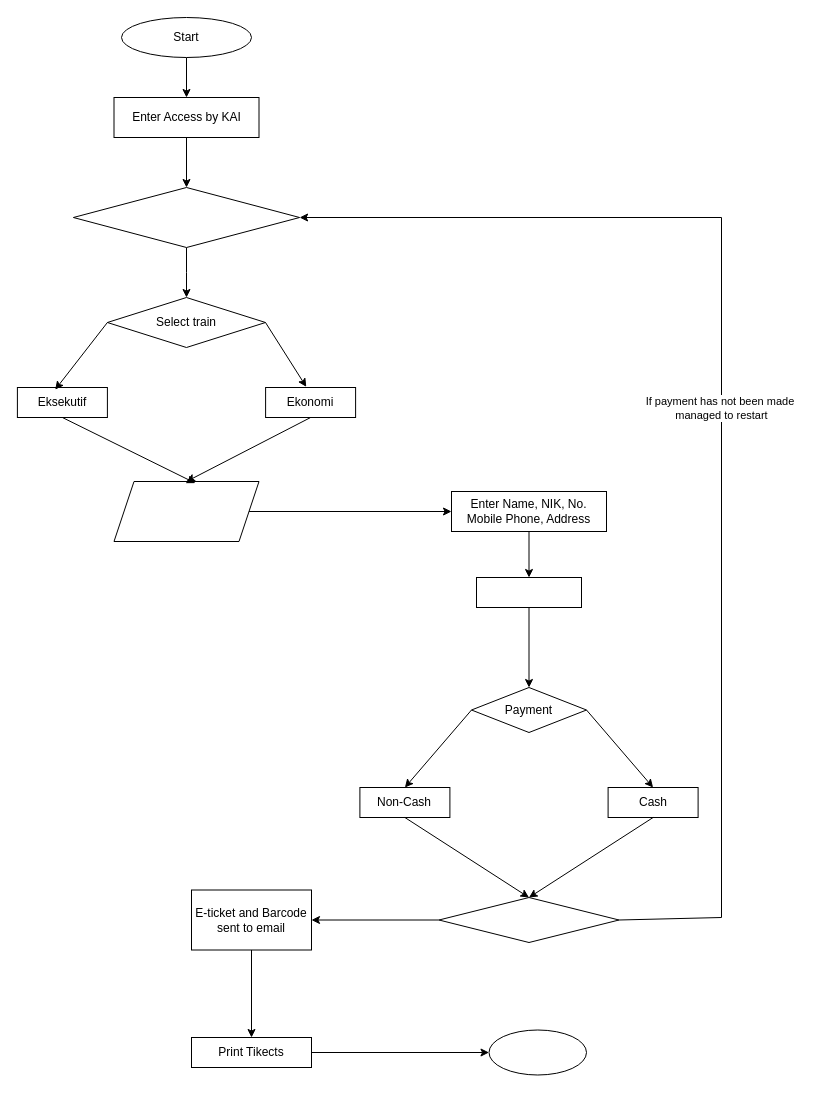
The diagram is 815 pixels wide and 1093 high, and some of its shapes have lost their labels. Each missing label, with the centre of its shape:
Finish: the point at 537,1052
Input passenger data: the point at 186,511
Payment Verication: the point at 528,919
Select a departure schedule: the point at 186,217
Select seat: the point at 529,592
